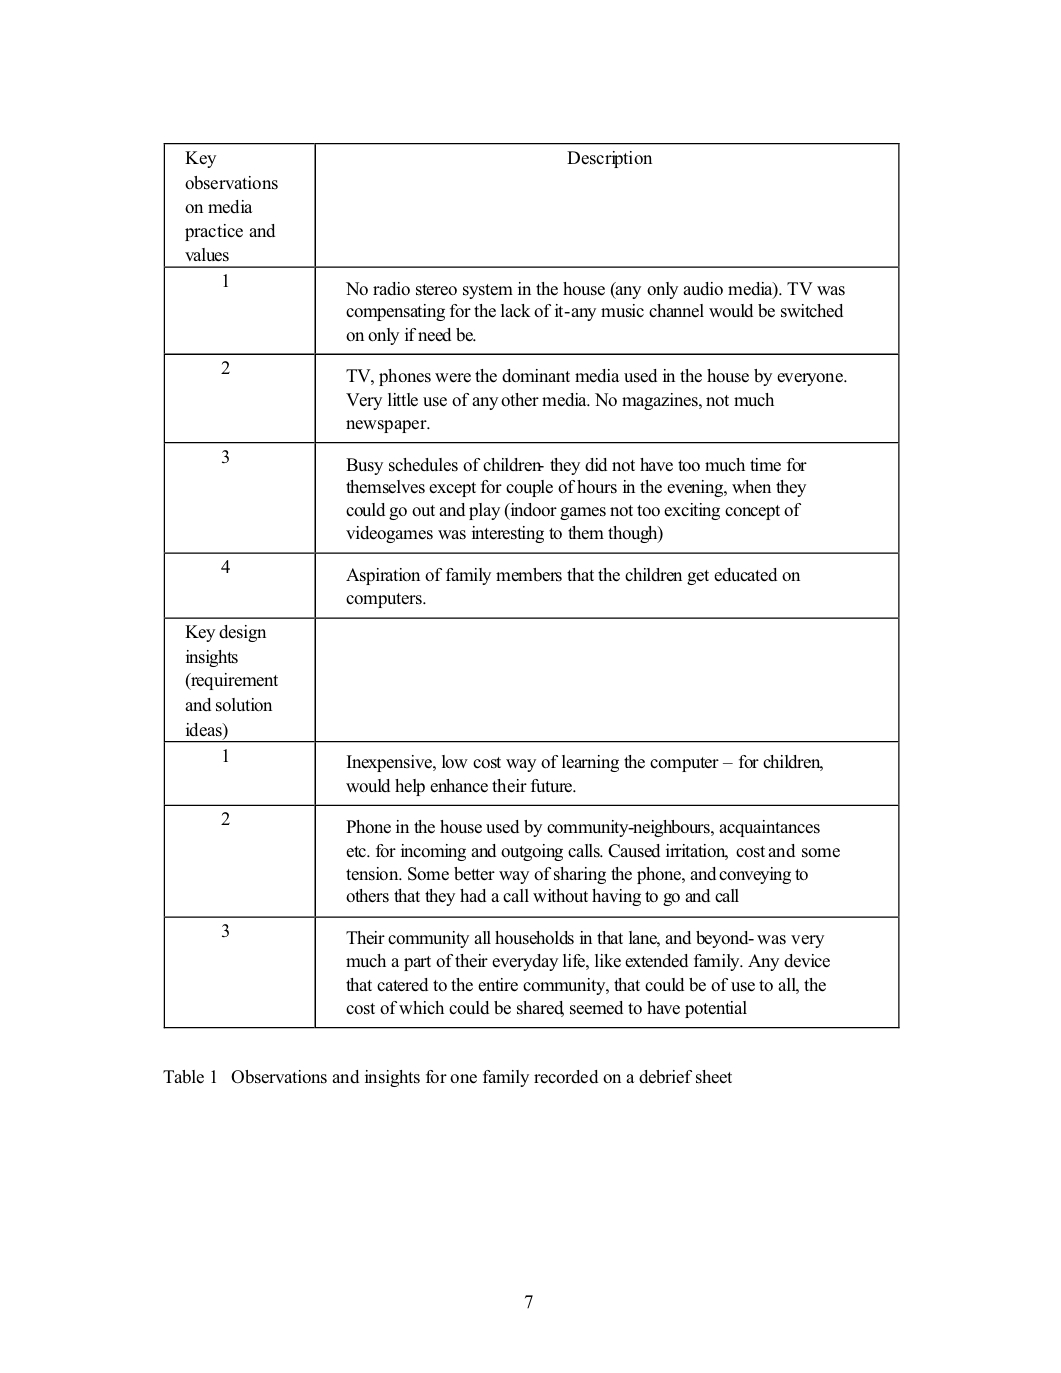Table: (163, 142, 899, 1029)
